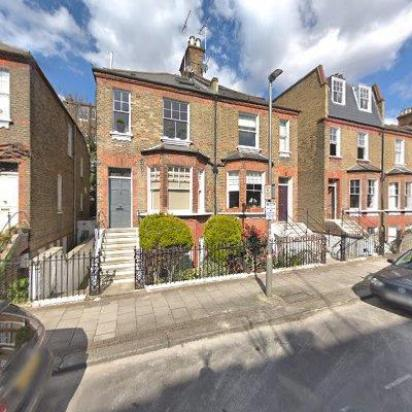stationary-car-onstreet: (0, 298, 56, 412), (370, 245, 412, 313)
